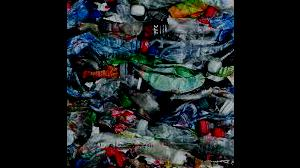Plastic: (132, 69, 203, 94), (167, 0, 231, 16)
